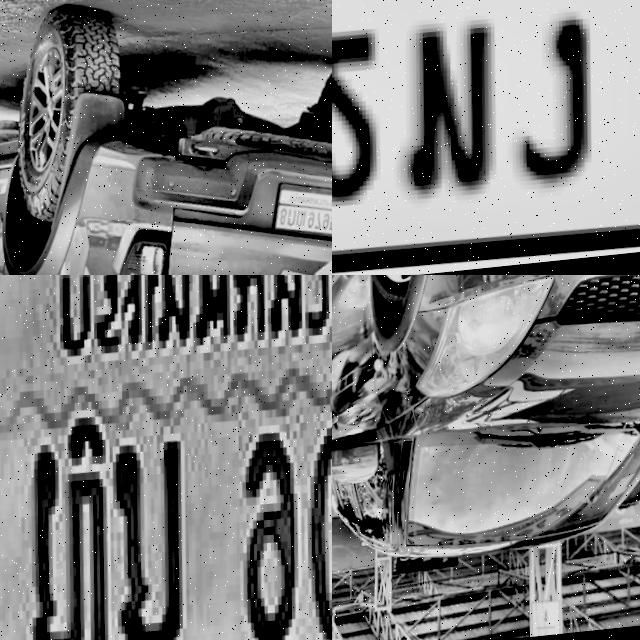license-plate: (0, 275, 332, 640), (332, 0, 640, 275), (269, 189, 332, 261)
